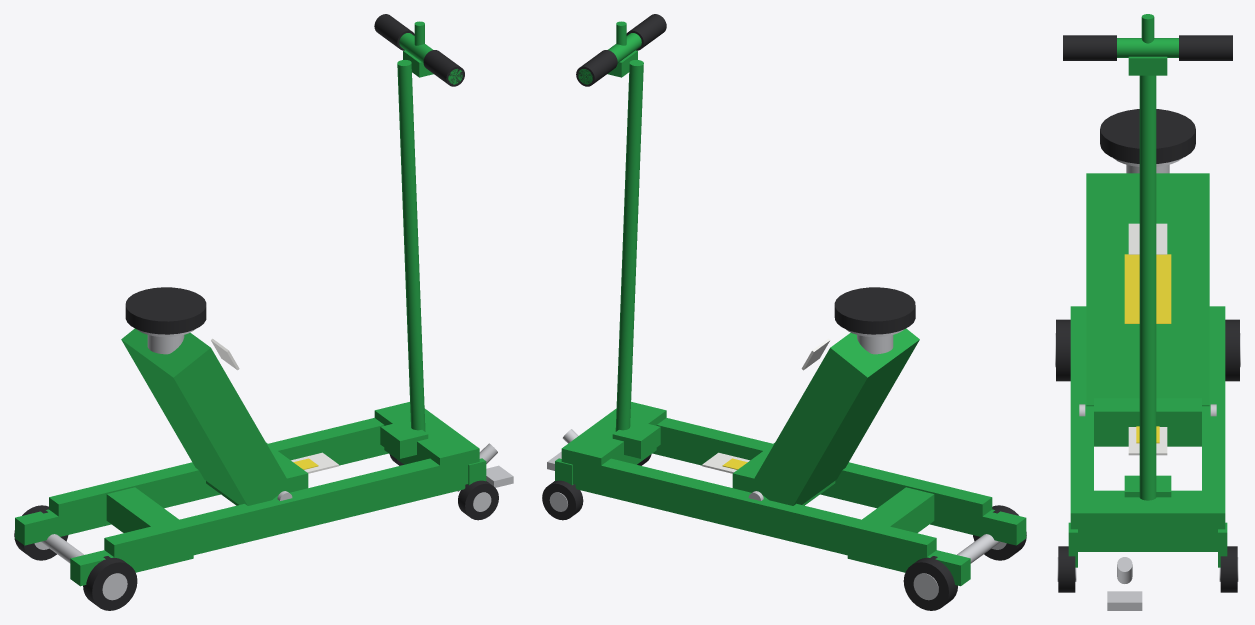
The model's file is macaco-hidraulico-3ton.glb.
3 renders of one model, left to right at view 1: azimuth 30°, elevation 25°; view 2: azimuth 150°, elevation 25°; view 3: azimuth 270°, elevation 25°, orthographic. The views are drawn at different scales.
Visible parts, largest first — view 1: Macaco hidraulico 3 ton; view 2: Macaco hidraulico 3 ton; view 3: Macaco hidraulico 3 ton.
Part boxes in pixels (left/top/right/bottom): Macaco hidraulico 3 ton: left=14, top=14, right=513, bottom=610; Macaco hidraulico 3 ton: left=542, top=14, right=1026, bottom=610; Macaco hidraulico 3 ton: left=1055, top=14, right=1240, bottom=610.
Size of the model in its own units: 0.7925 by 0.8 by 0.24.
